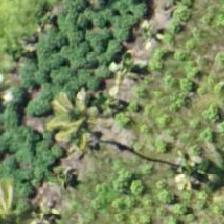coconut_tree: (0, 173, 51, 223)
